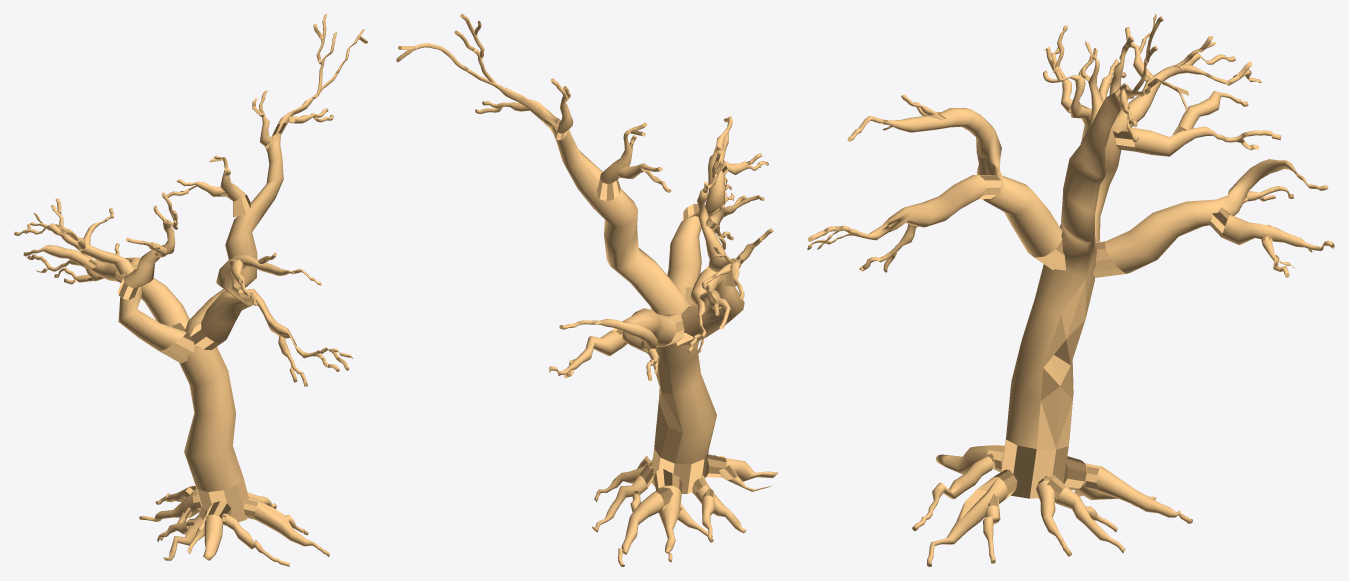
The model's file is tree.obj.
3 renders of one model, left to right at view 1: azimuth 30°, elevation 25°; view 2: azimuth 150°, elevation 25°; view 3: azimuth 270°, elevation 25°, orthographic. The views are drawn at different scales.
Visible parts, largest first — view 1: model.005; view 2: model.005; view 3: model.005.
Boxes of the visible parts, x1,y1,x2,y2 form: model.005: (14, 14, 367, 566); model.005: (396, 14, 778, 566); model.005: (807, 14, 1334, 566).
Size of the model in its own units: 1.64 by 2.14 by 1.68.
